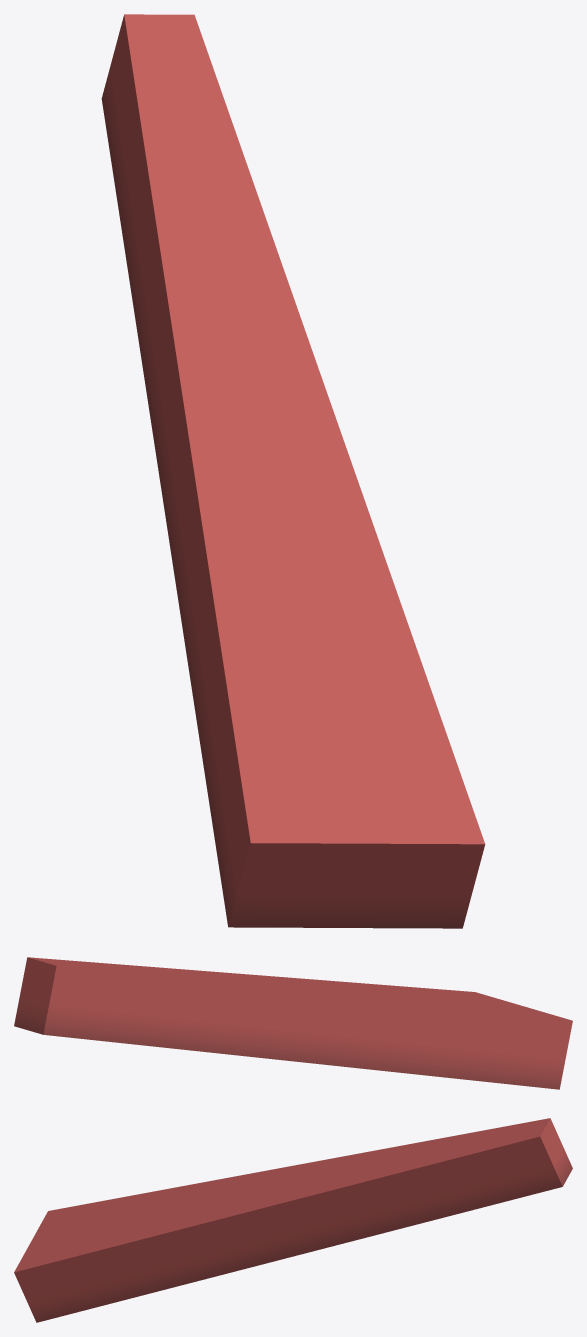
The model's file is PlatTri01.027.glb.
3 renders of one model, top to bottom at view 1: azimuth 30°, elevation 25°; view 2: azimuth 150°, elevation 25°; view 3: azimuth 270°, elevation 25°, orthographic. The views are drawn at different scales.
Visible parts, largest first — view 1: PlatTri01.027; view 2: PlatTri01.027; view 3: PlatTri01.027.
Boxes of the visible parts, <box> form: PlatTri01.027: <box>101,14,485,928</box>; PlatTri01.027: <box>14,957,572,1089</box>; PlatTri01.027: <box>14,1118,572,1322</box>.
Size of what is drawn, in the model's own units: 4.83 by 5.25 by 10.73.
Materials: 1 (1 with a texture image).
